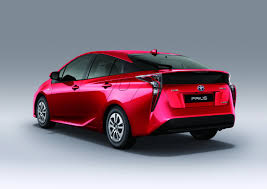car: (27, 44, 248, 162)
